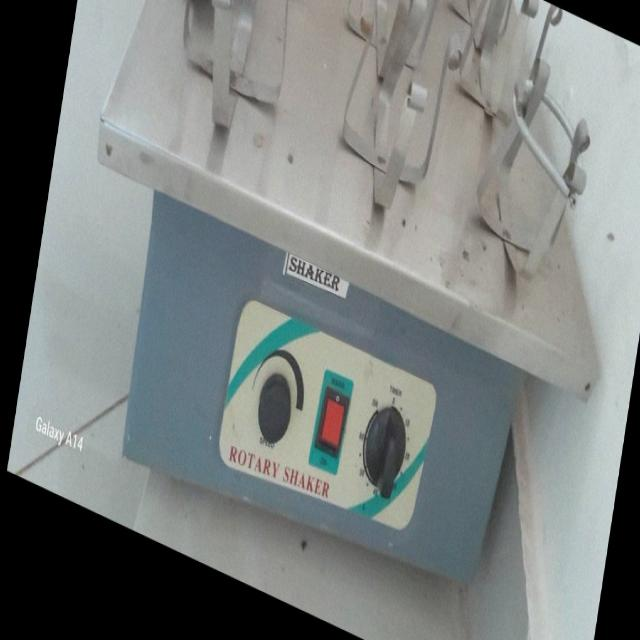Rotary Shaker: (49, 0, 640, 640)
